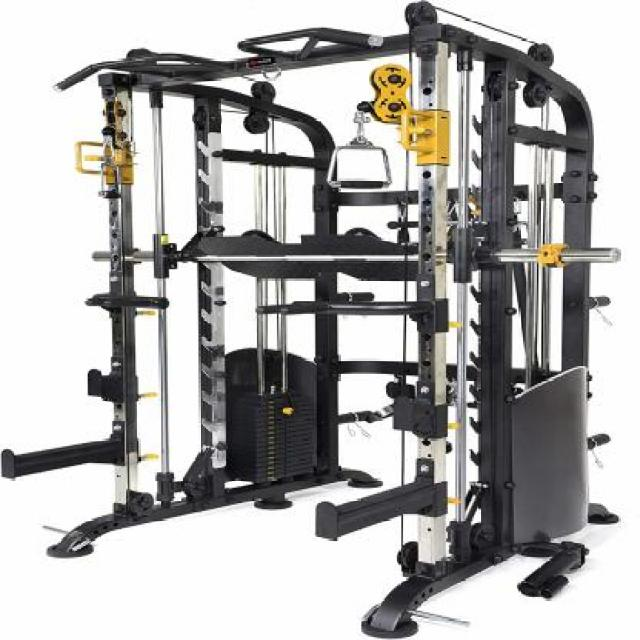smith machine: (0, 1, 620, 640)
